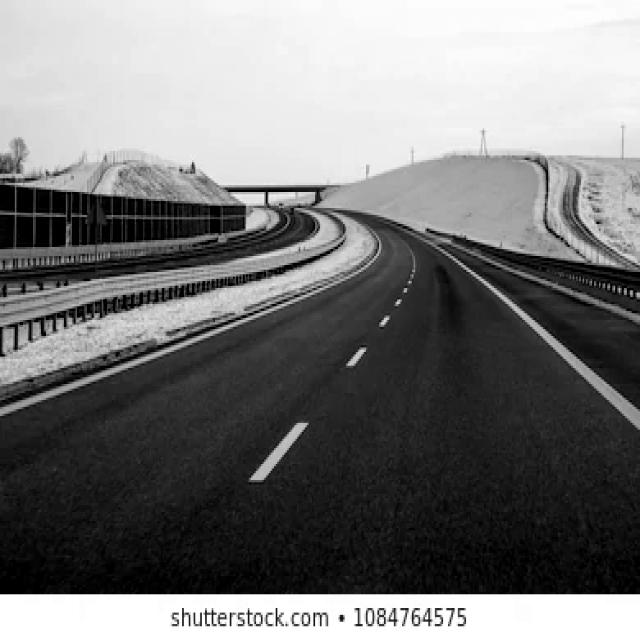cleat: (8, 219, 640, 611)
